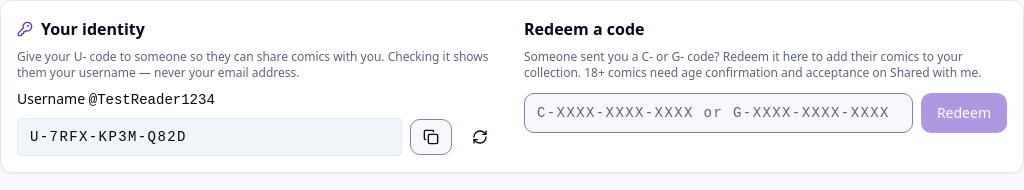
it: SharingCodesCard › keeps Redeem disabled until the code is the right shape
expect the button "Redeem" is disabled: met, box 921,93 -> 1007,133
Type "C7RFXKP3MQ82" into the field with placeholder "C-XXXX-XXXX-XXXX or G-XXXX-XXXX-XXXX".
click(718, 113); type("C7RFXKP3MQ82")  # box 524,93 -> 913,133
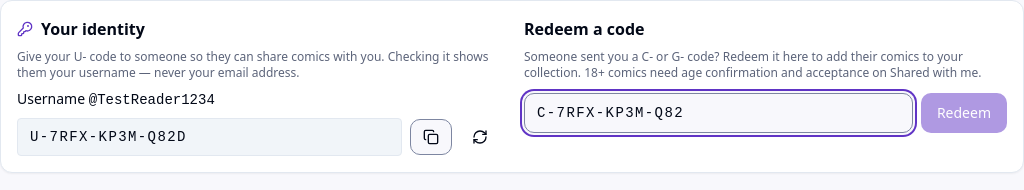
expect the button "Redeem" is disabled: met, box 921,93 -> 1007,133
Type "D" into the field with placeholder "C-XXXX-XXXX-XXXX or G-XXXX-XXXX-XXXX".
click(718, 113); type("D")  # box 524,93 -> 913,133
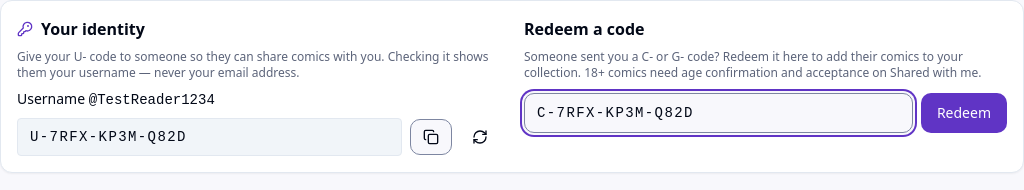
expect the button "Redeem" is enabled: met, box 921,93 -> 1007,133
